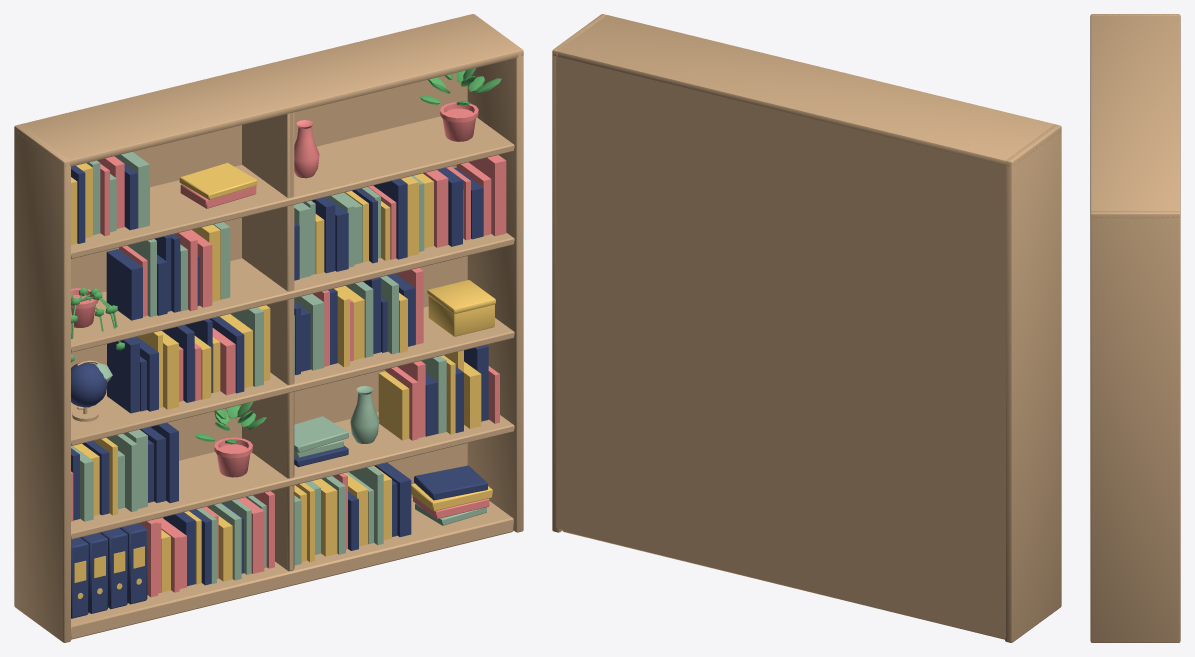
File: bookshelf.glb
The picture shows the model from 3 angles, left to right: view 1: azimuth 30°, elevation 25°; view 2: azimuth 150°, elevation 25°; view 3: azimuth 270°, elevation 25°; orthographic projection. The views are drawn at different scales.
Parts seen in each view (by area): view 1: oak, book_b, book_d, book_c, book_a, leaf; view 2: oak; view 3: oak.
Part boxes in pixels (left/top/right/bottom): oak: left=14, top=14, right=523, bottom=642; book_b: left=71, top=158, right=488, bottom=618; book_d: left=71, top=163, right=495, bottom=598; book_c: left=71, top=152, right=486, bottom=583; book_a: left=71, top=102, right=506, bottom=597; leaf: left=71, top=68, right=501, bottom=444; oak: left=552, top=14, right=1061, bottom=642; oak: left=1090, top=14, right=1180, bottom=642.
Size of the model in its own units: 2 by 2 by 0.38.
